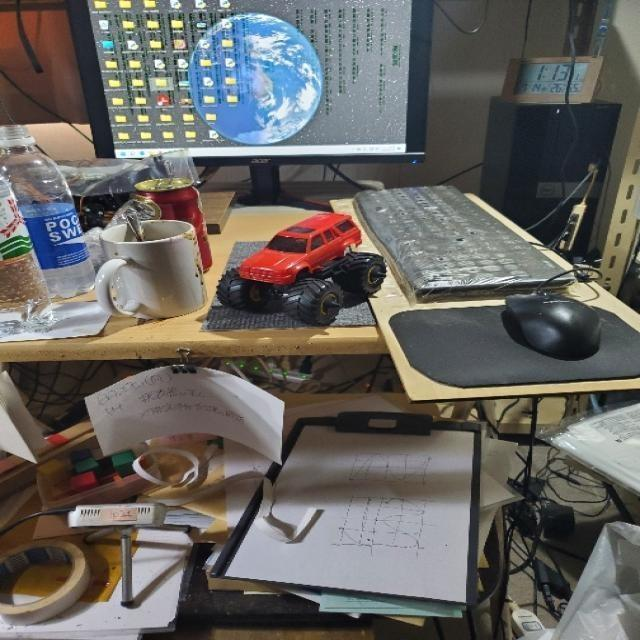Car: (204, 192, 398, 336)
